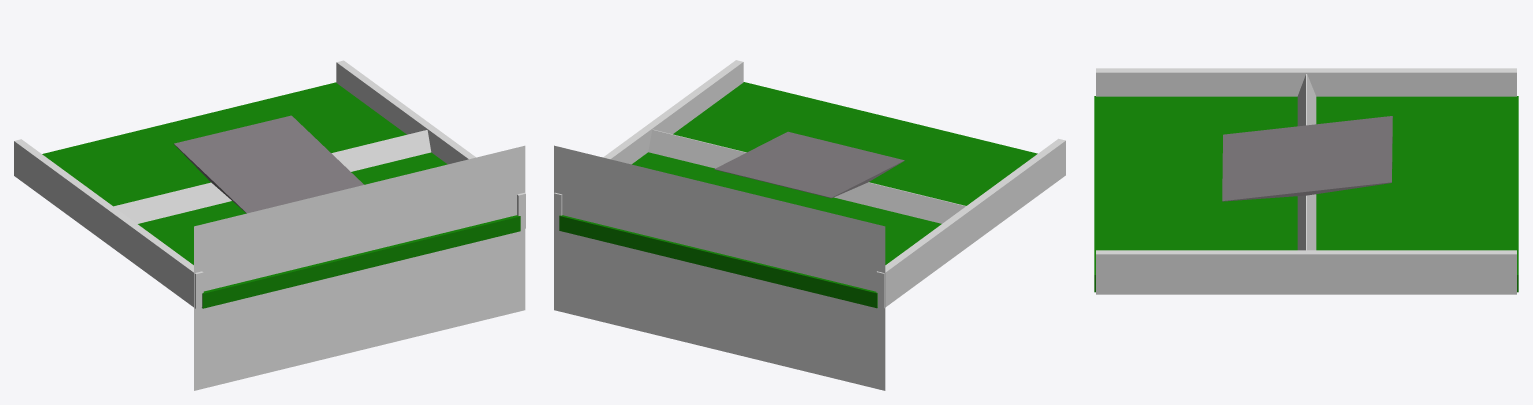
Rendered from tilt.glb.
3 views of the same model, side by side, from view 1: azimuth 30°, elevation 25°; view 2: azimuth 150°, elevation 25°; view 3: azimuth 270°, elevation 25° (orthographic). The views are drawn at different scales.
Visible parts, largest first — view 1: obj_snap, Cube, Cube.006, Cube.001, Cube.005, Cube.002; view 2: obj_snap.001, Cube, Cube.001, Cube.006, Cube.005, Cube.002; view 3: Cube, Cube.002, Cube.001, Cube.006, Cube.005.
Boxes of the visible parts, x1,y1,x2,y2 form: obj_snap: (194,145,525,390); Cube: (42,82,520,308); Cube.006: (174,115,363,213); Cube.001: (14,139,203,308); Cube.005: (113,130,431,223); Cube.002: (336,60,525,229); obj_snap.001: (554,145,885,390); Cube: (559,82,1037,308); Cube.001: (876,138,1065,308); Cube.006: (714,131,904,198); Cube.005: (648,129,965,223); Cube.002: (554,60,743,229); Cube: (1094,96,1518,292); Cube.002: (1096,250,1516,294); Cube.001: (1096,68,1516,96); Cube.006: (1222,116,1392,201); Cube.005: (1297,74,1316,250).
Size of the model in its own units: 4.21 by 2 by 4.04.
